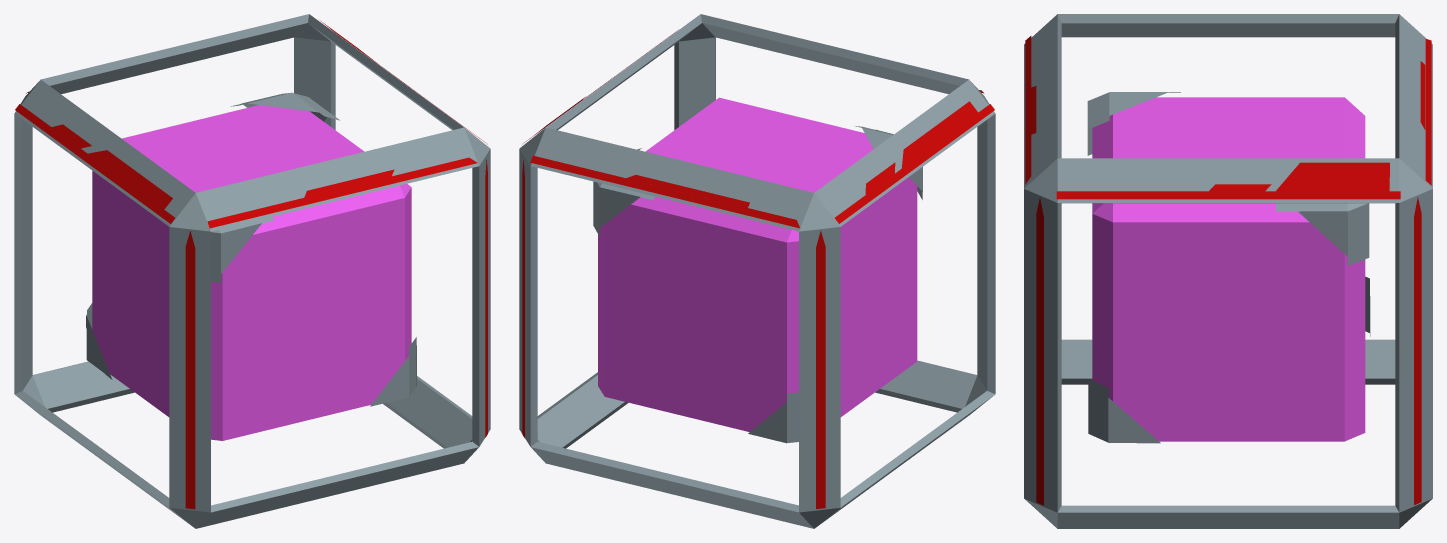
File: powercube.obj
3 renders of one model, left to right at view 1: azimuth 30°, elevation 25°; view 2: azimuth 150°, elevation 25°; view 3: azimuth 270°, elevation 25°, orthographic. The views are drawn at different scales.
Visible parts, largest first — view 1: powerCubeResource:Mesh, powerCubeResourceXM:Mesh; view 2: powerCubeResource:Mesh, powerCubeResourceXM:Mesh; view 3: powerCubeResource:Mesh, powerCubeResourceXM:Mesh.
Boxes of the visible parts, bbox=[...] form: powerCubeResource:Mesh: bbox=[14, 14, 490, 528]; powerCubeResourceXM:Mesh: bbox=[92, 105, 411, 440]; powerCubeResource:Mesh: bbox=[519, 14, 995, 528]; powerCubeResourceXM:Mesh: bbox=[598, 97, 917, 431]; powerCubeResource:Mesh: bbox=[1024, 14, 1432, 528]; powerCubeResourceXM:Mesh: bbox=[1092, 97, 1365, 441].
Size of the model in its own units: 0.7298 by 0.7298 by 0.7298.
Materials: 3 (3 with a texture image).
